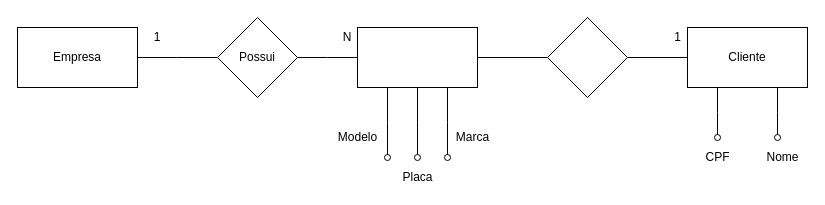
This 825x205 diagram has some shape labels left out. Here are the shapes that lost their labels. From the top down, the centre of each, then its label:
At point (417, 57): "Veiculos".
At point (587, 57): "Aluga".
